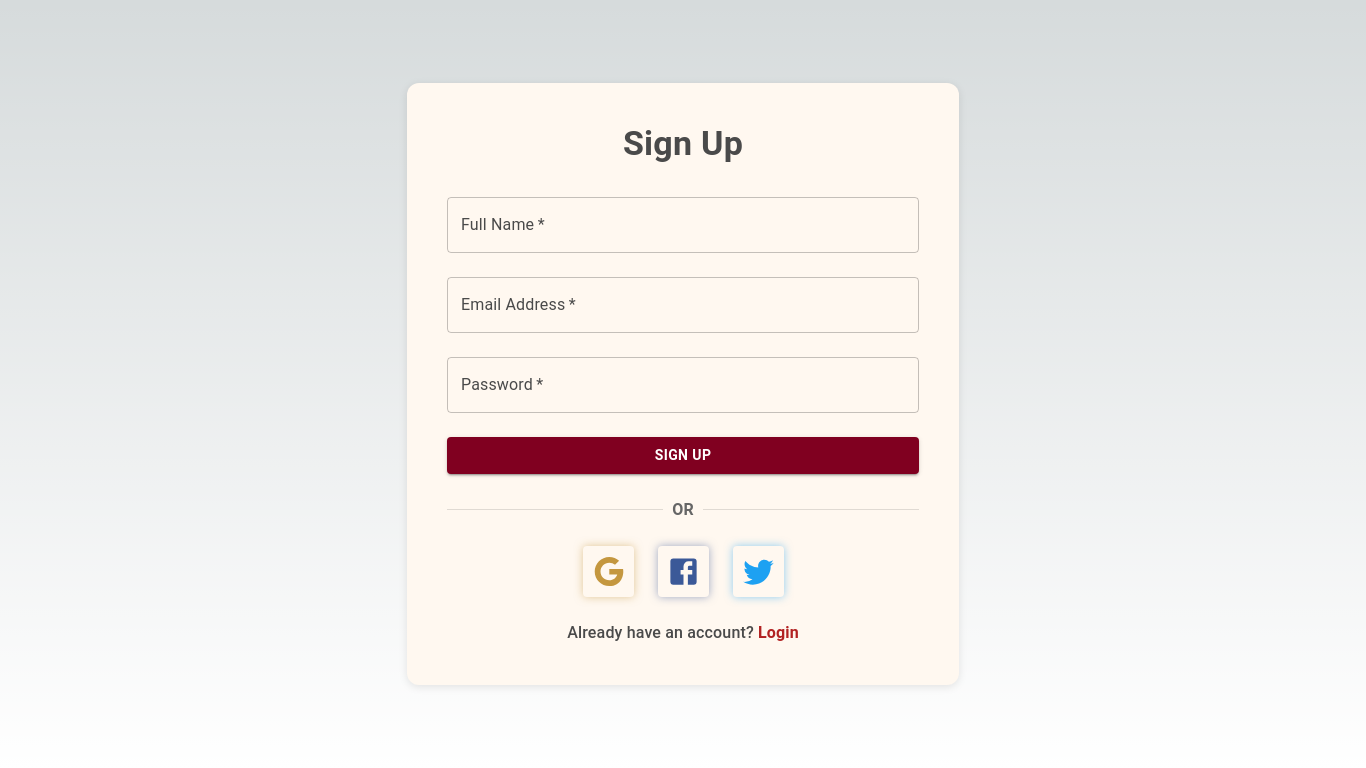
Test: SignupPage › shows error on failed signup
Type "Test User" into the field labelled "Full Name *" at (683, 225), box [447, 197, 919, 253]
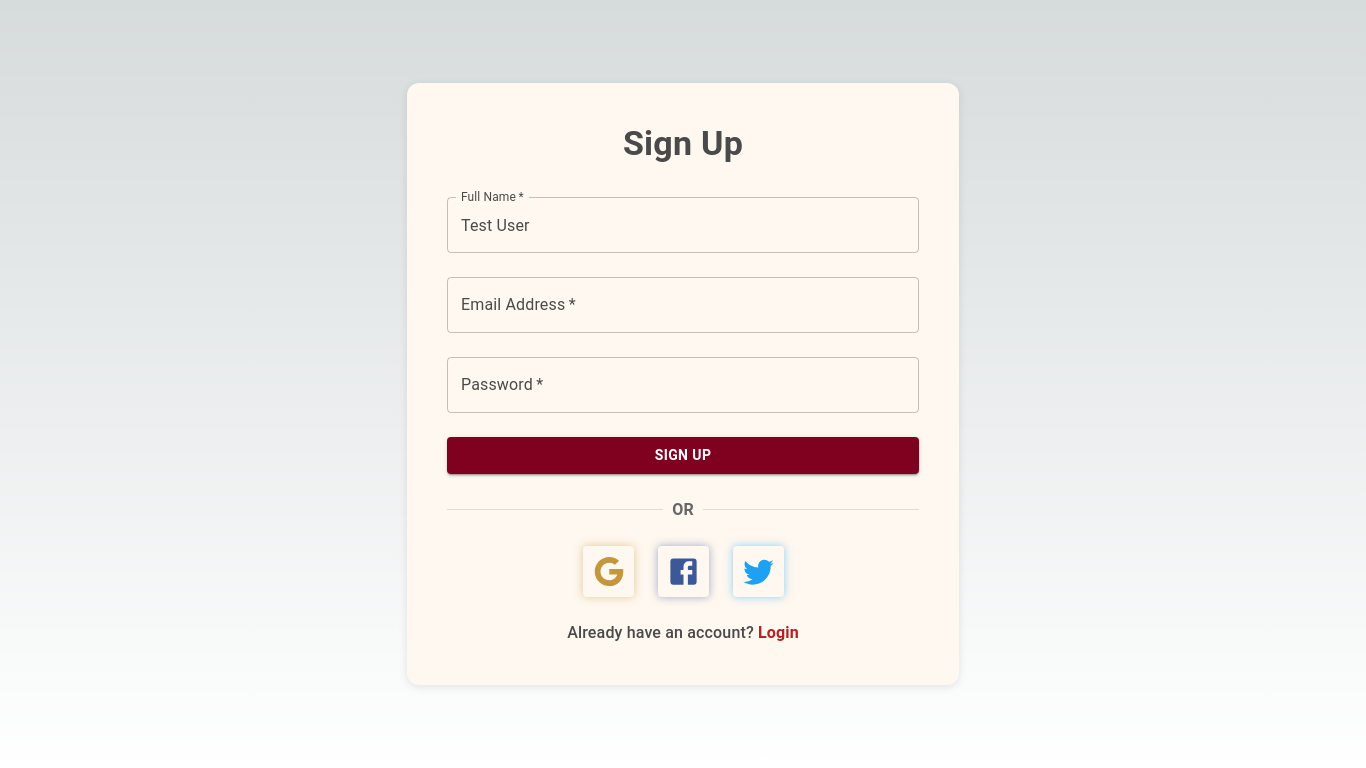
Type "test@example.com" into the field labelled "Email Address *" at (683, 305), box [447, 277, 919, 333]
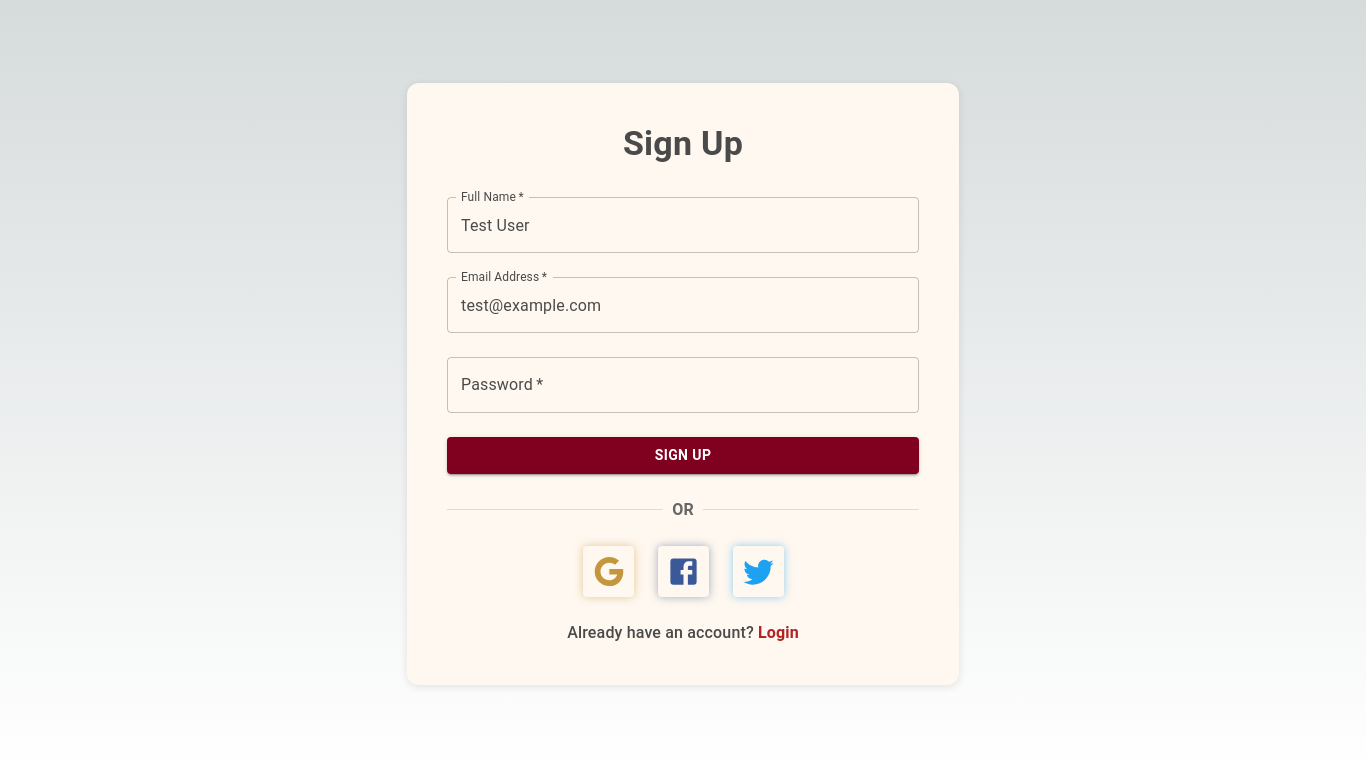
Type "password123" into the password field labelled "Password *" at (683, 385), box [447, 357, 919, 413]
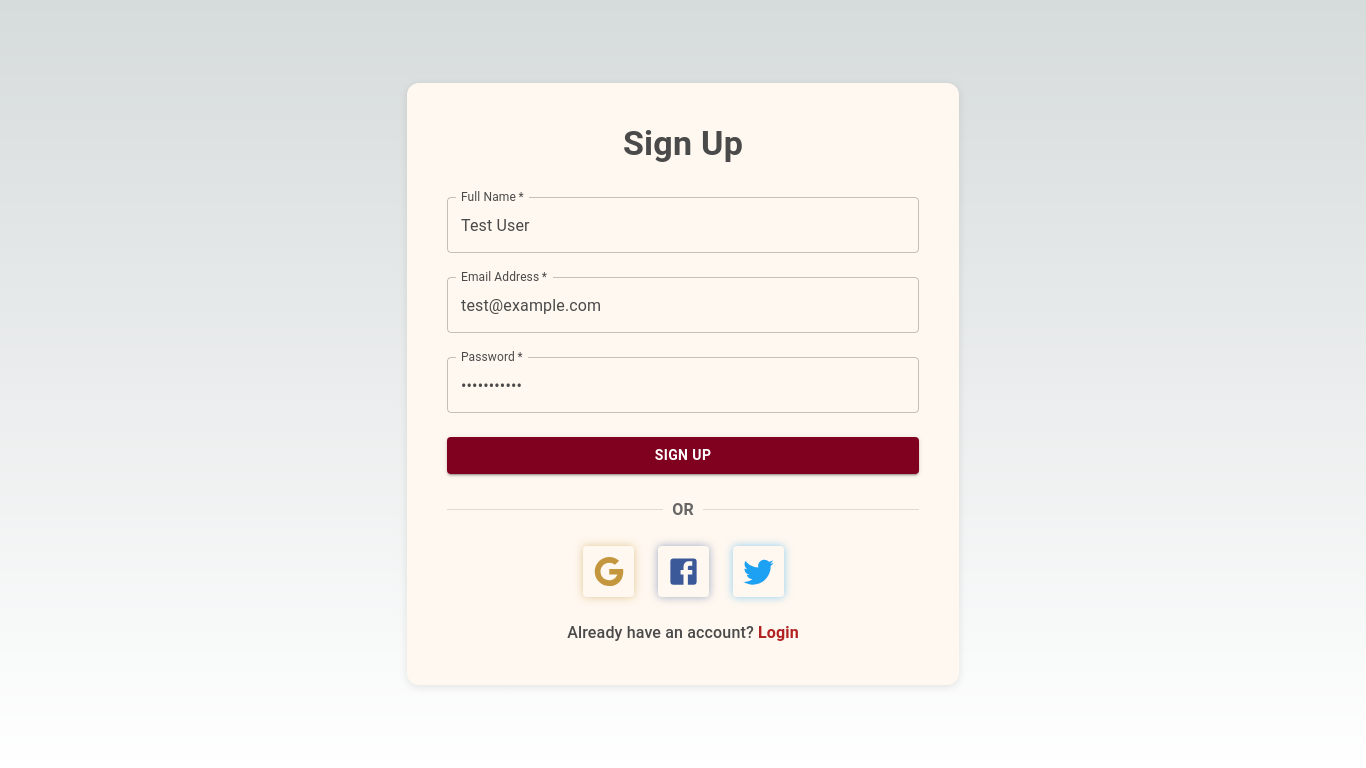
Click the button "Sign Up" at (683, 455), box [447, 437, 919, 474]
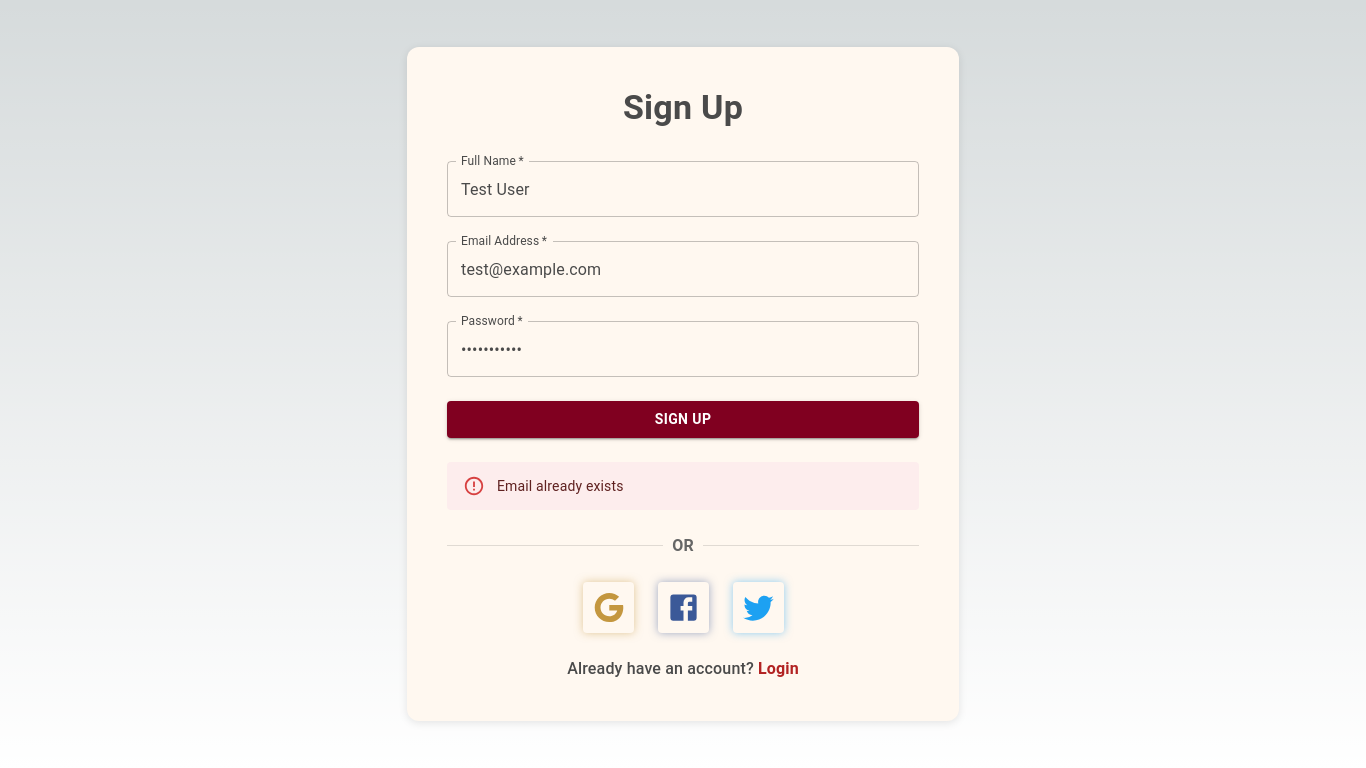
Expected: the text "Email already exists" is shown, [497, 478, 624, 494]
